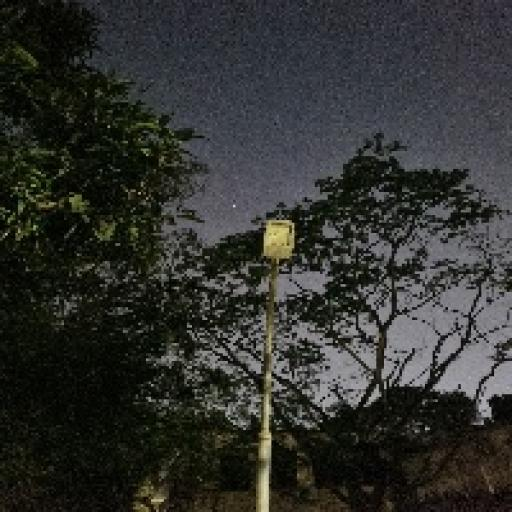Not Working: (246, 212, 302, 270)
